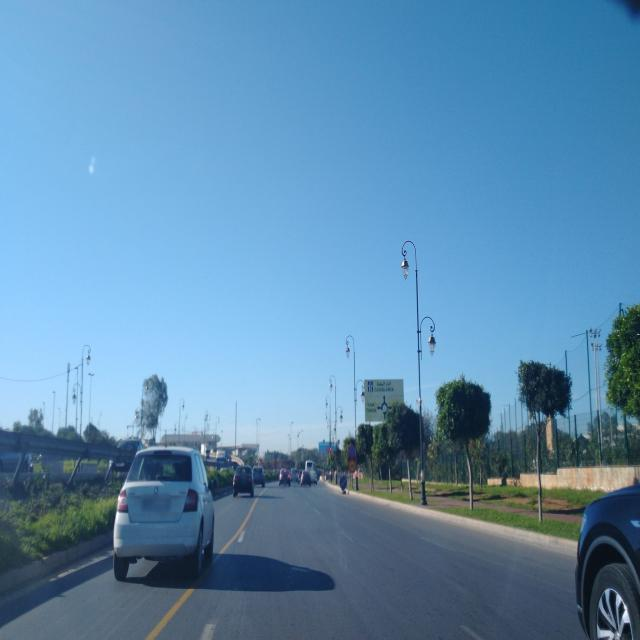forb_stopping: (348, 444, 356, 459)
